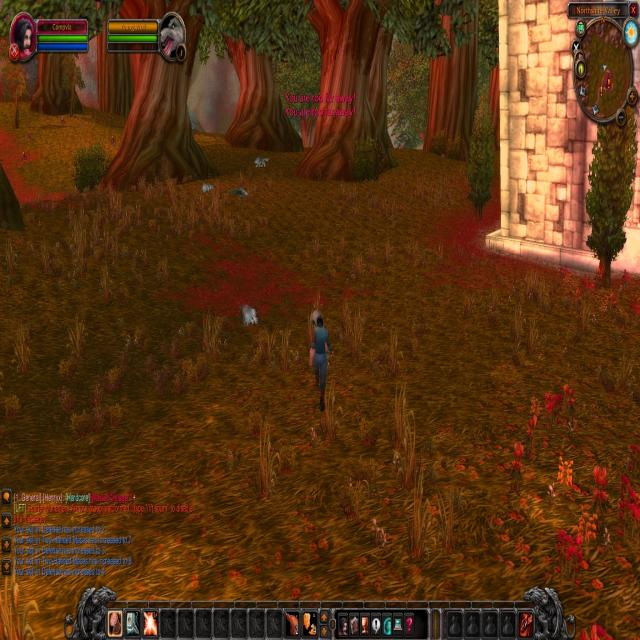wolf: (237, 297, 263, 332), (226, 180, 251, 206), (252, 151, 274, 177), (200, 176, 216, 199)
